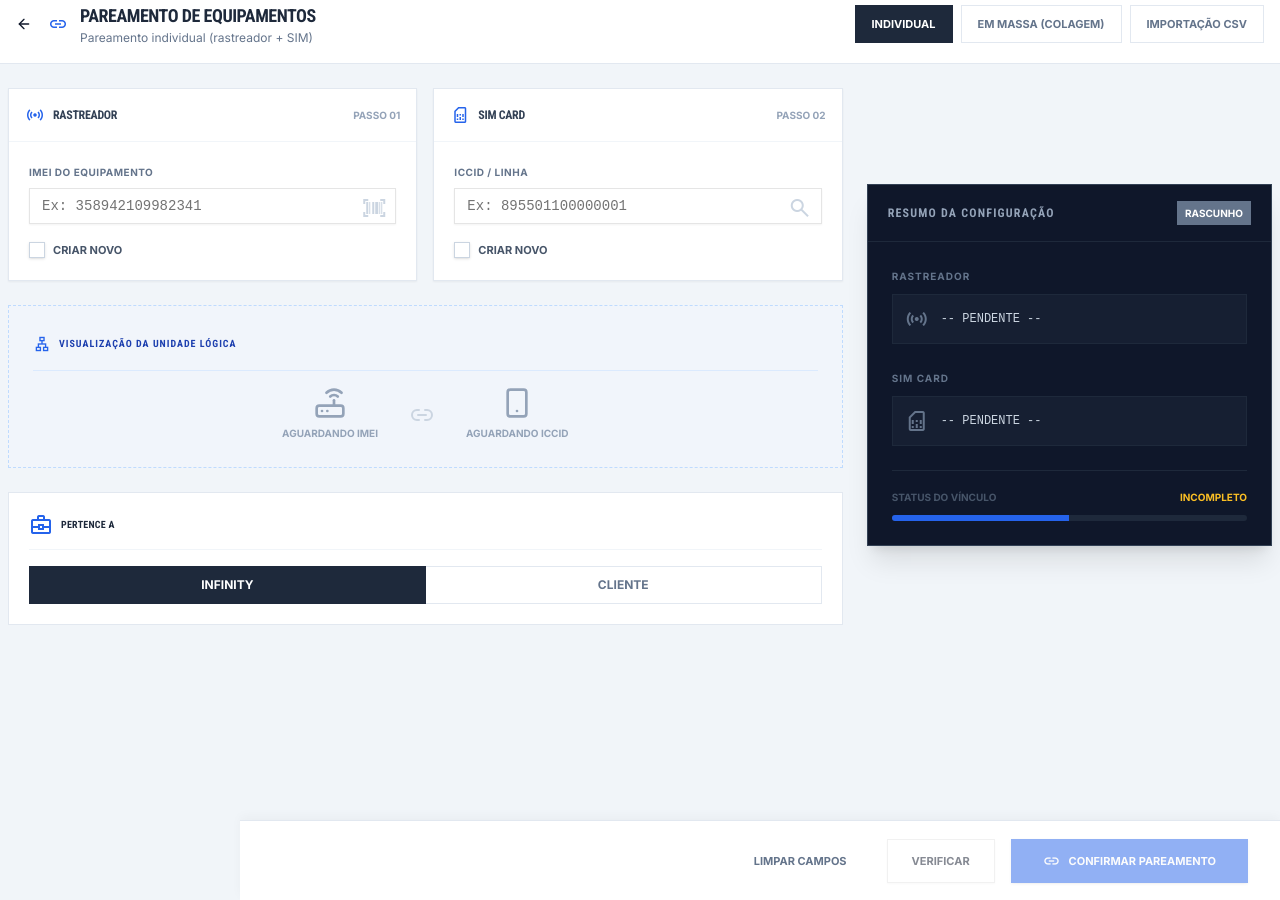
PareamentoPage — CRIAR NOVO rastreador (modo individual) › ao marcar PERTENCE A UM LOTE, exibe dropdown de lote e esconde marca/modelo
Click the checkbox named "criar novo" below "IMEI do Equipamento": (37,250) top-left (29, 242), bottom-right (45, 258)
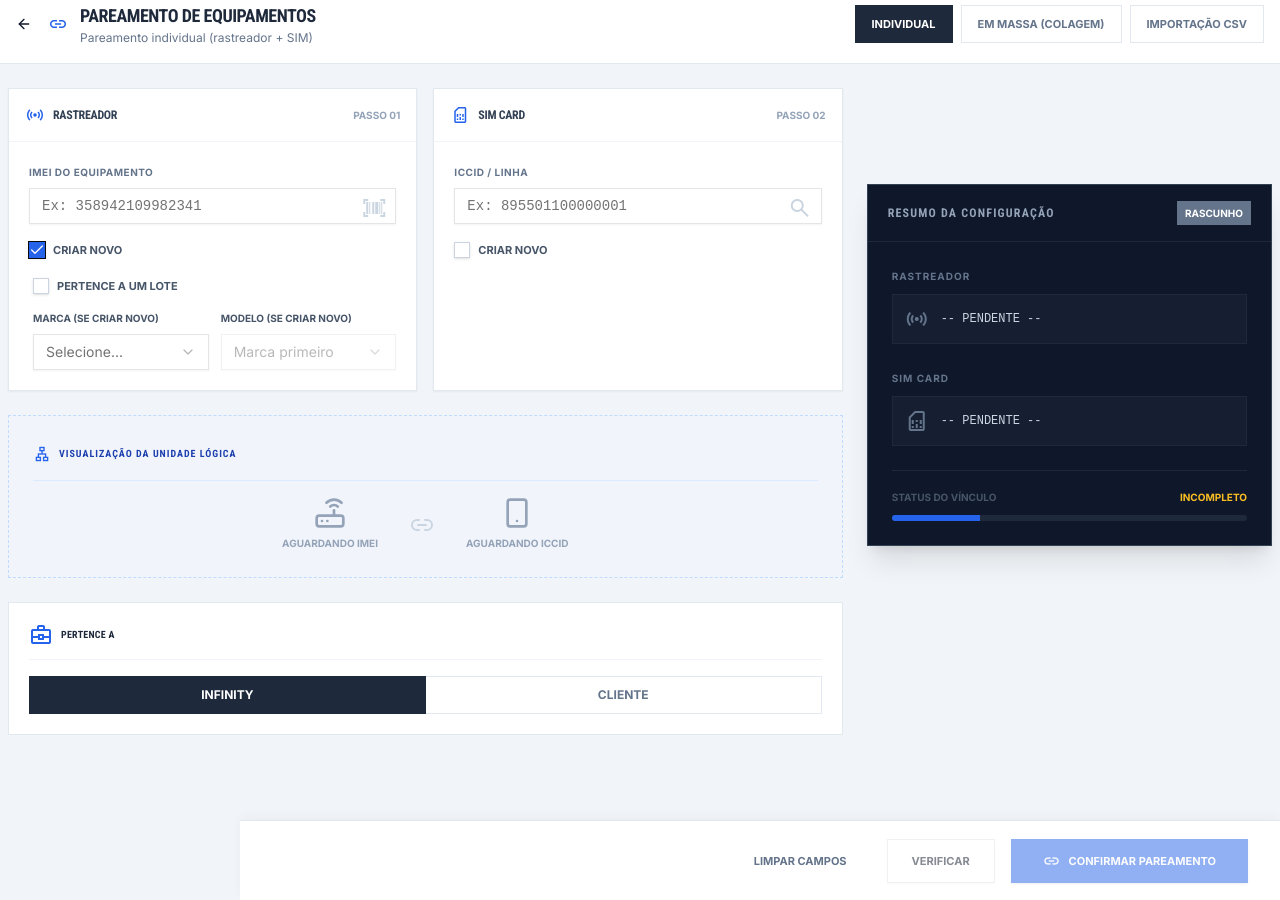
Click the checkbox named "pertence a um lote" next to "Pertence a um lote": (41,286) top-left (33, 278), bottom-right (49, 294)
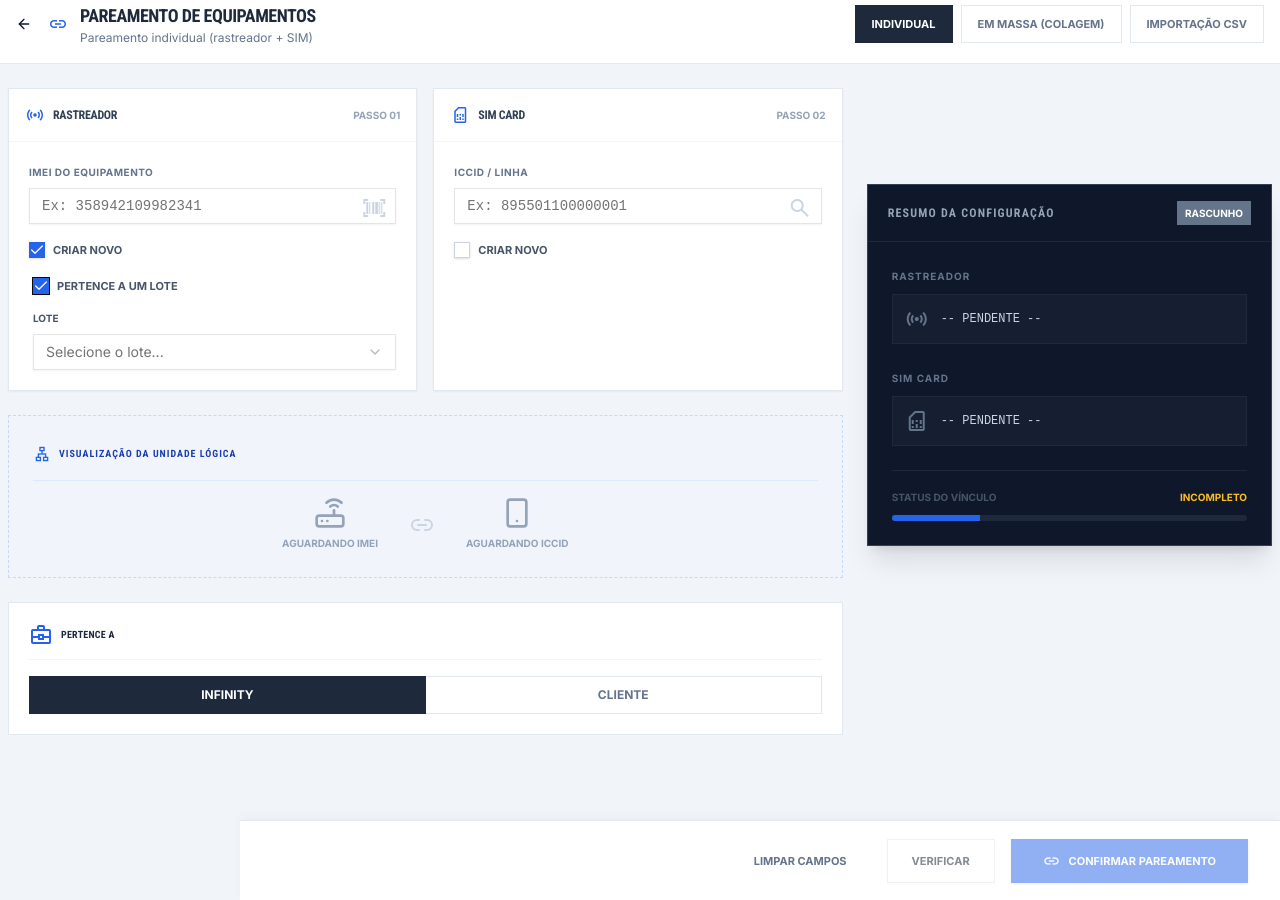
Now the text "Lote" is shown, box top-left (33, 312), bottom-right (58, 324)
Now the text "Marca (se criar novo)" is gone
Now the text "Modelo (se criar novo)" is gone
